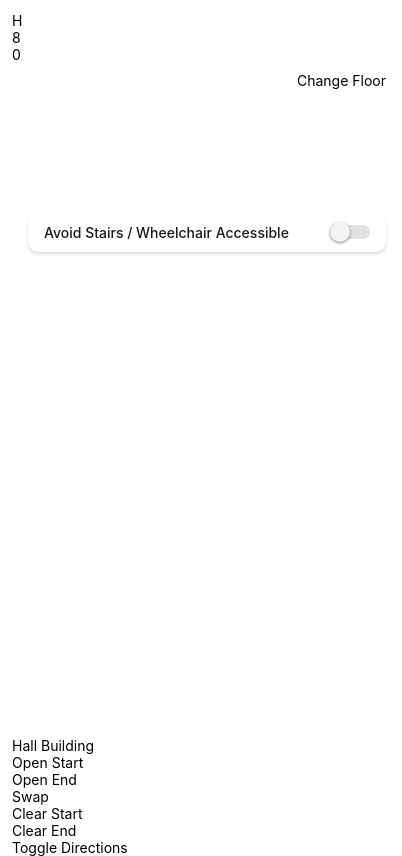
Test case: IndoorNavigation › swap locations exchanges start and end rooms
The width and height of the screenshot is (402, 856).
Step 1. Click the element with test id "open-start" → [48, 762], box [12,754,83,771]
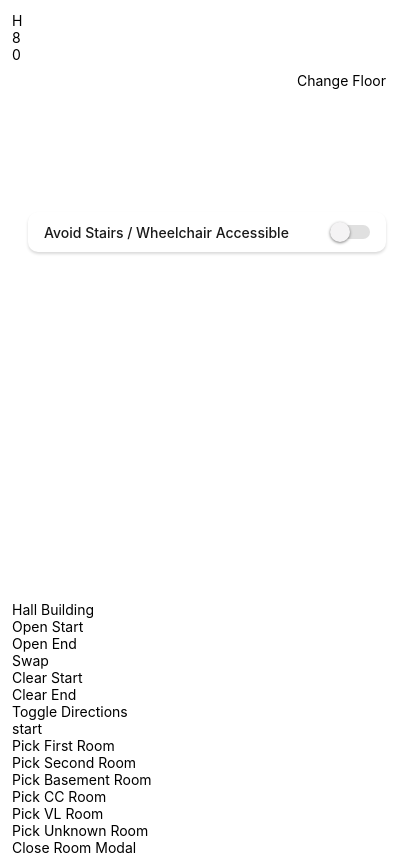
Step 2. Click the element with test id "pick-room-first" → [63, 746], box [12,737,115,754]
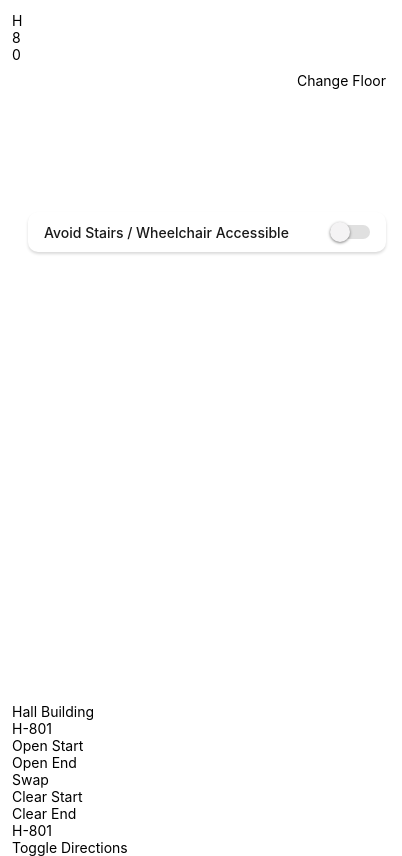
Step 3. Click the element with test id "open-end" → [44, 762], box [12,754,77,771]
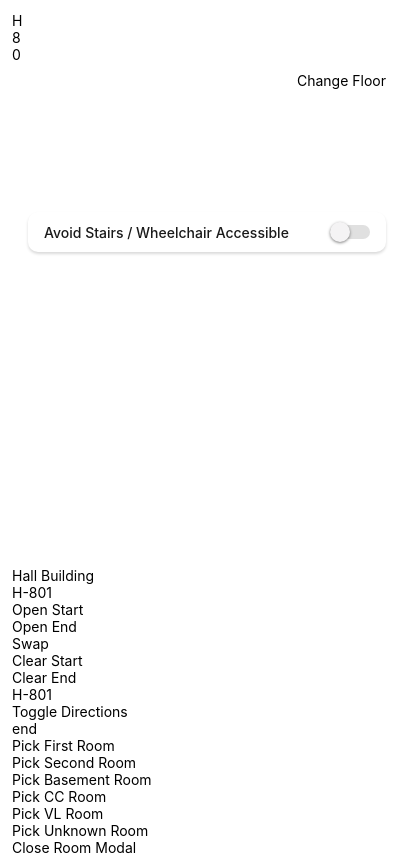
Step 4. Click the element with test id "pick-room-second" → [74, 762], box [12,754,136,771]
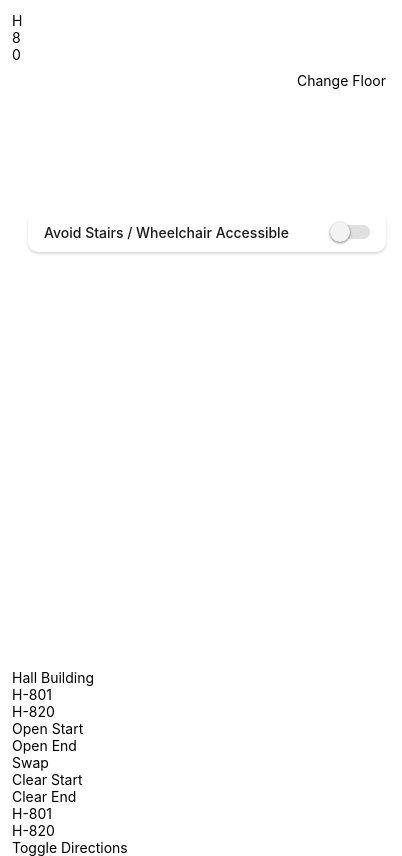
Expected: the text with test id "start-room-value" reads "H-801", [12,686,52,703]
Expected: the text with test id "end-room-value" reads "H-820", [12,703,55,720]
Step 5. Click the element with test id "swap-locations" → [30, 762], box [12,754,49,771]
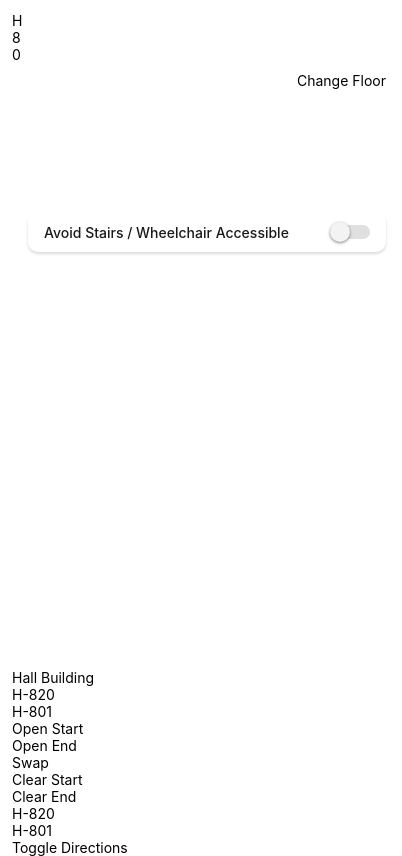
Expected: the text with test id "start-room-value" reads "H-820", [12,686,55,703]
Expected: the text with test id "end-room-value" reads "H-801", [12,703,52,720]
